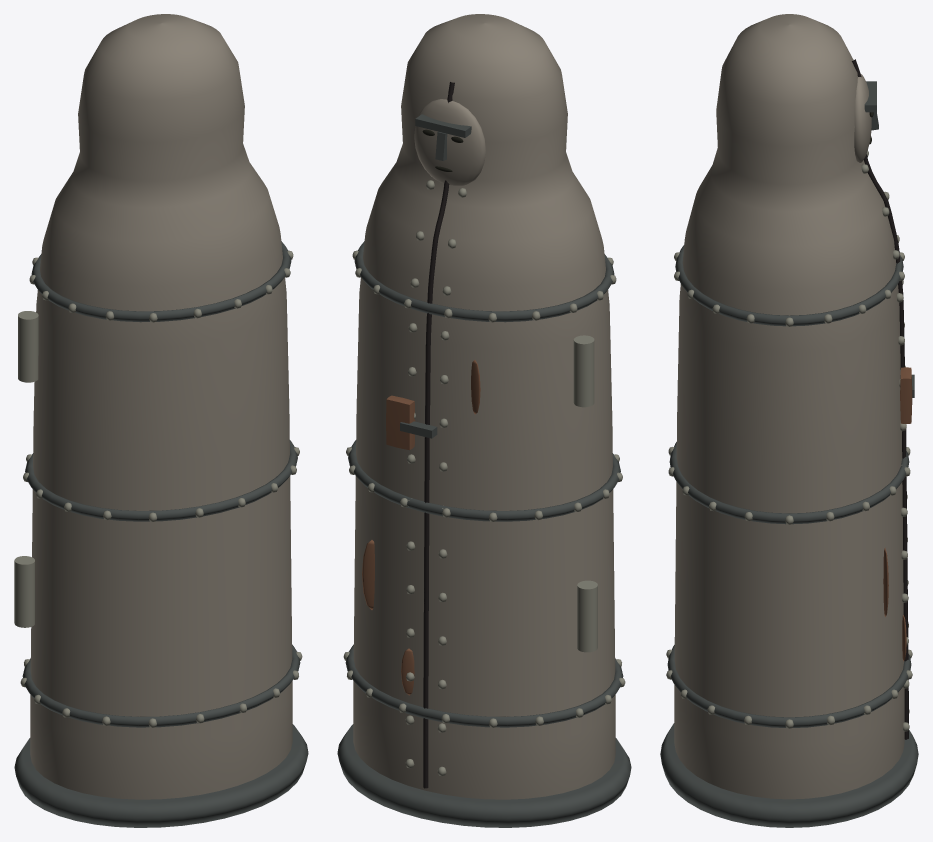
The model's file is detail_iron_maiden.glb.
3 renders of one model, left to right at view 1: azimuth 30°, elevation 25°; view 2: azimuth 150°, elevation 25°; view 3: azimuth 270°, elevation 25°, orthographic.
Parts seen in each view (by area): view 1: metal; view 2: metal; view 3: metal.
Part boxes in pixels (x1,y1,x2,y2): metal: (14,14,308,827); metal: (337,14,631,827); metal: (660,14,918,827).
Size of the model in its own units: 0.7 by 1.9 by 0.6.
